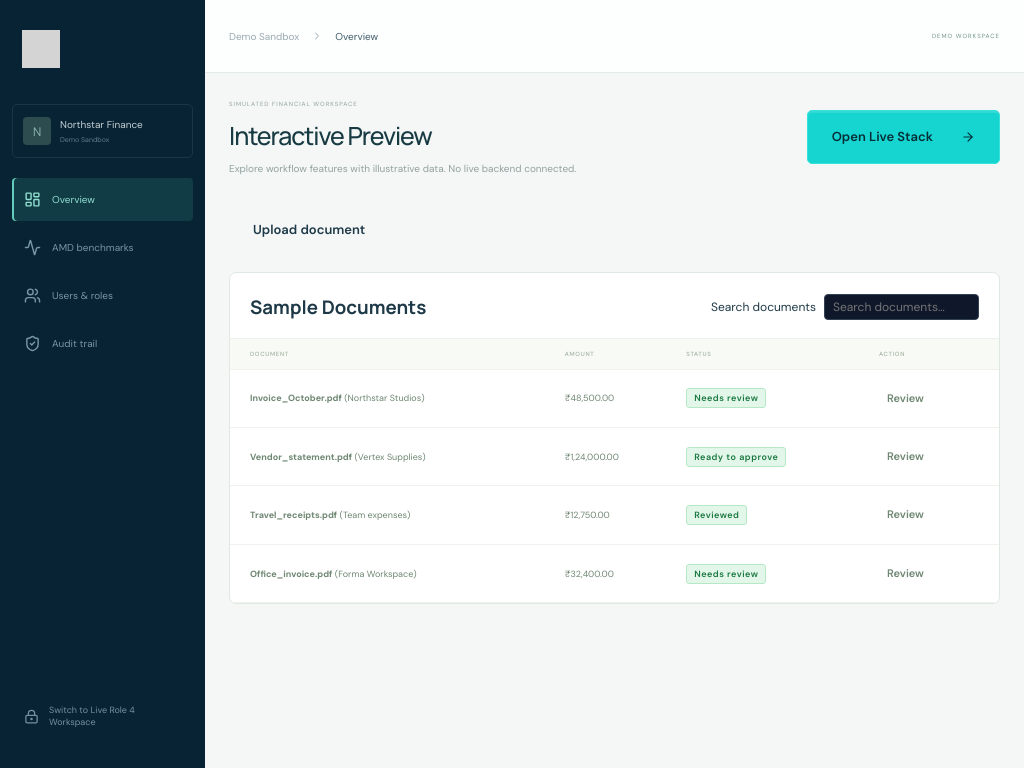
Scenario: Empty, Loading, and Error States › renders unverified AMD benchmark empty state with clear disclosure
What coordinates should you click on to do the following:
click the button "AMD benchmarks"
I would click on:
 (102, 248)
Its box is x1=12 y1=226 x2=193 y2=269.
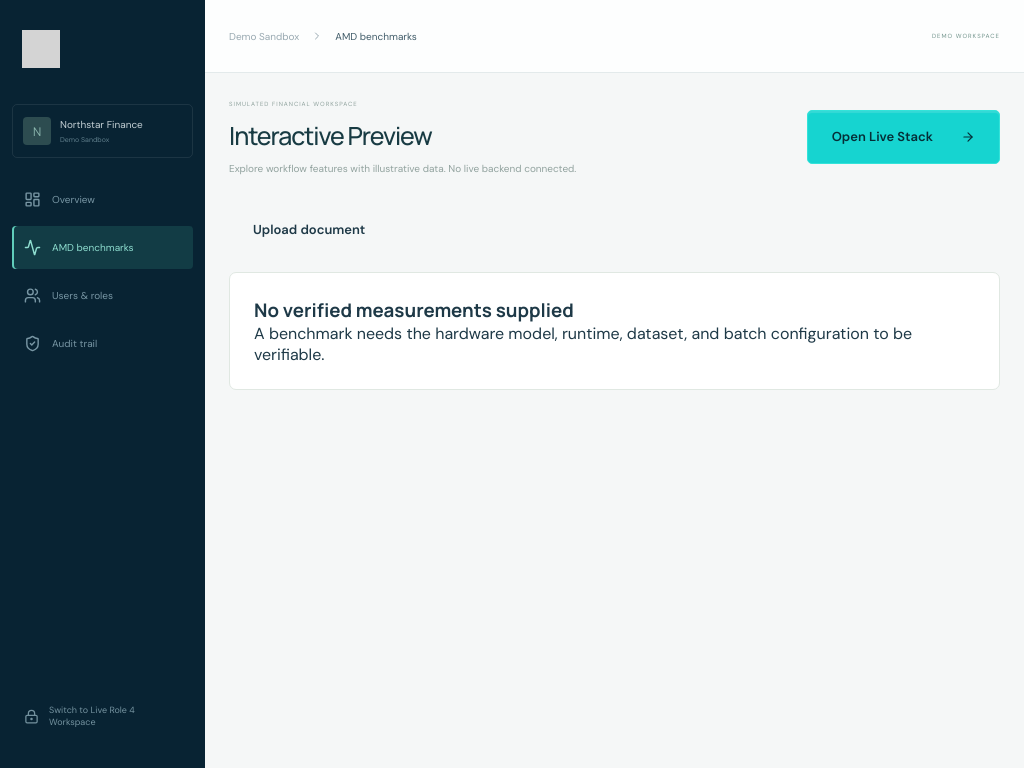
Now the heading "No verified measurements supplied" is shown, box x1=254 y1=297 x2=574 y2=323
Now the text "A benchmark needs the hardware model, runtime, dataset" is shown, box x1=254 y1=323 x2=912 y2=365
